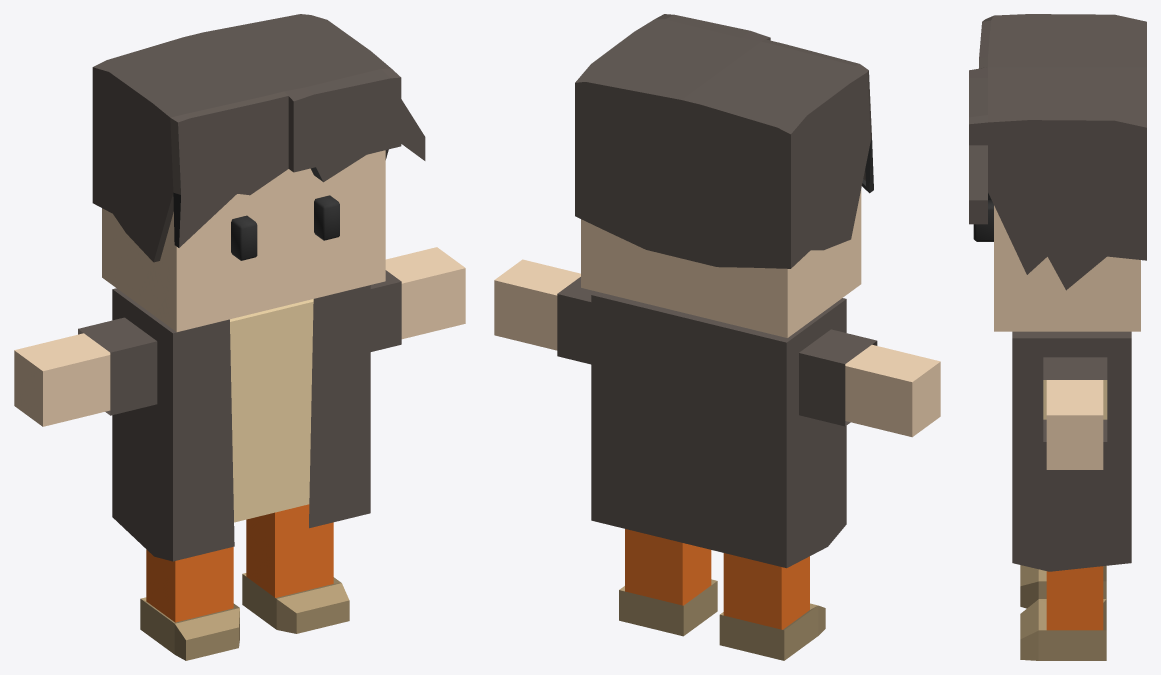
The model's file is STA_Project_Character_1_V1.fbx.
3 views of the same model, side by side, from view 1: azimuth 30°, elevation 25°; view 2: azimuth 150°, elevation 25°; view 3: azimuth 270°, elevation 25° (orthographic).
Parts seen in each view (by area): view 1: Player.exporting.V1; view 2: Player.exporting.V1; view 3: Player.exporting.V1.
Boxes of the visible parts, left/top/right/bottom form: Player.exporting.V1: left=14, top=14, right=465, bottom=660; Player.exporting.V1: left=494, top=14, right=940, bottom=660; Player.exporting.V1: left=969, top=14, right=1146, bottom=660.
Size of the model in its own units: 365 by 464 by 135.
